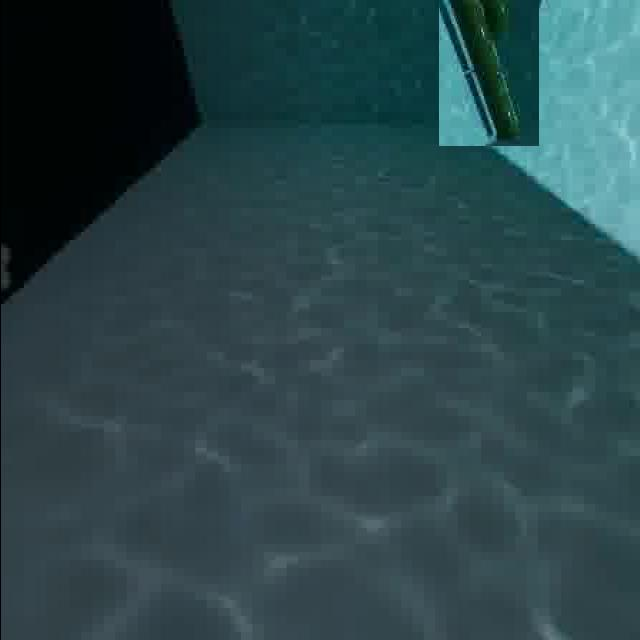Pipe: (438, 0, 538, 146)
